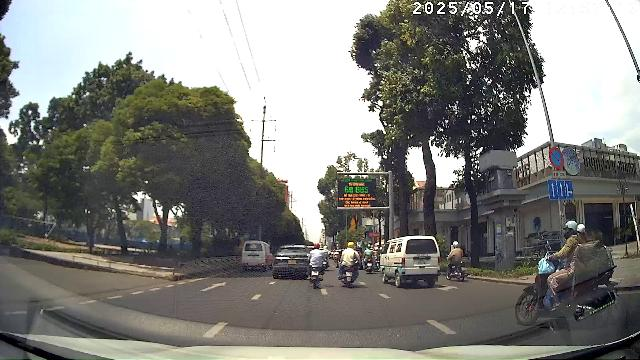131a-cam-do-xe: (548, 148, 564, 170)
